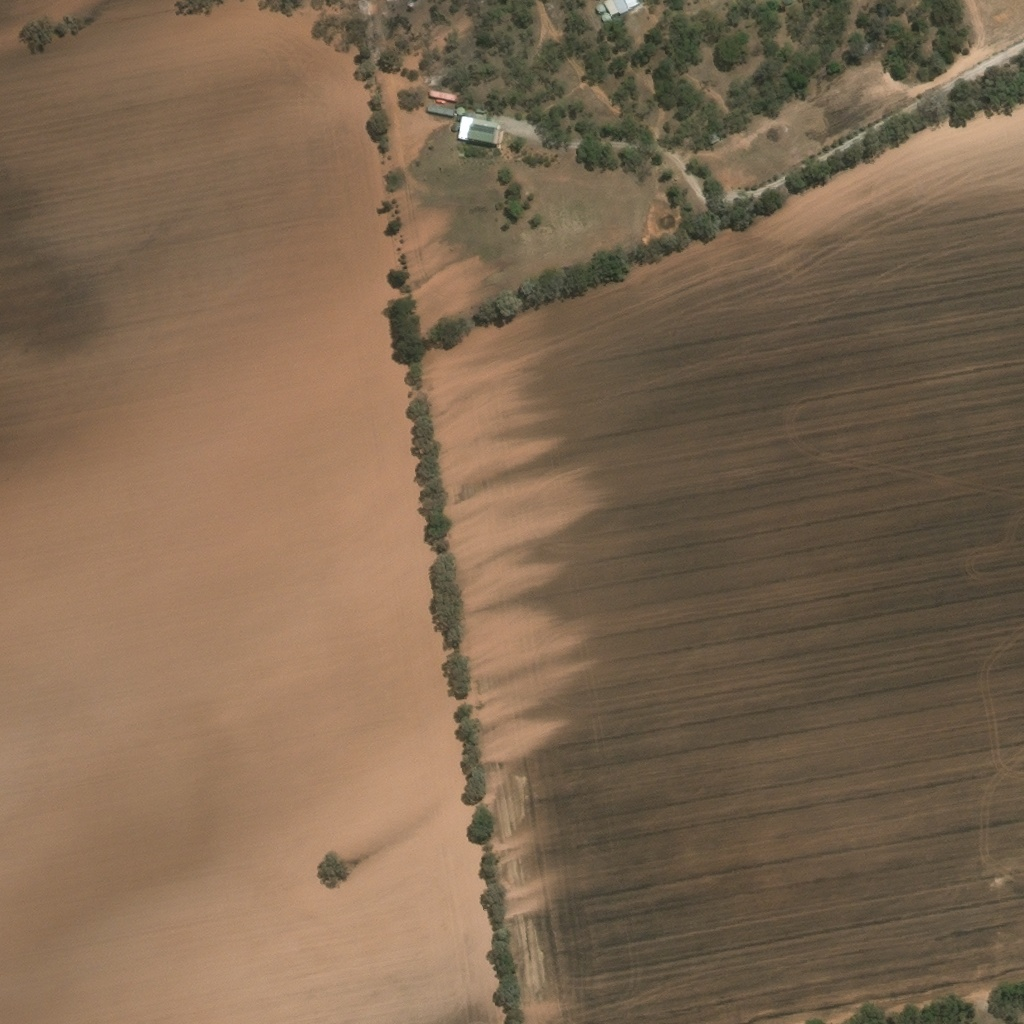0 no-damage: (467, 123, 501, 146), (604, 0, 642, 15), (457, 116, 476, 141), (426, 106, 455, 117), (597, 3, 607, 14), (603, 12, 614, 22)
